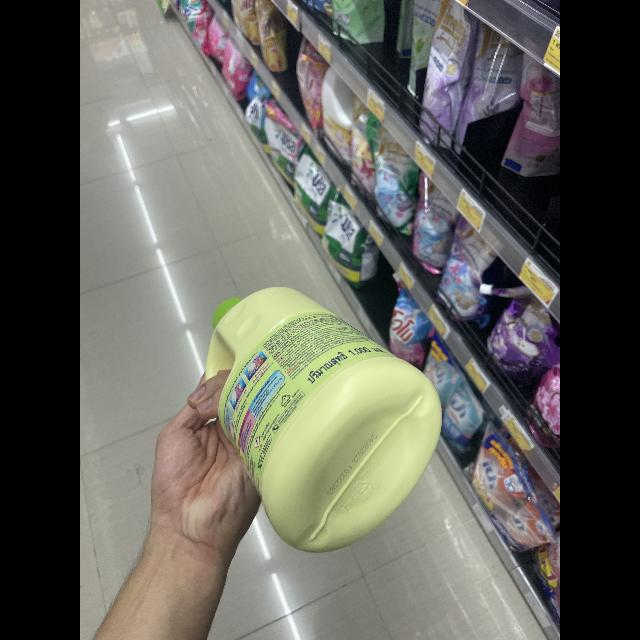chemical_plastic_bottle: (172, 274, 452, 560)
